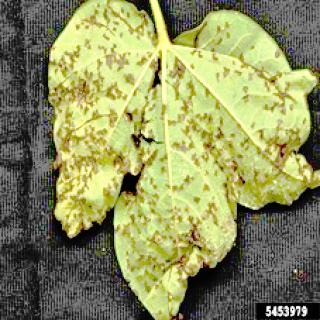blight: (38, 12, 320, 296)
